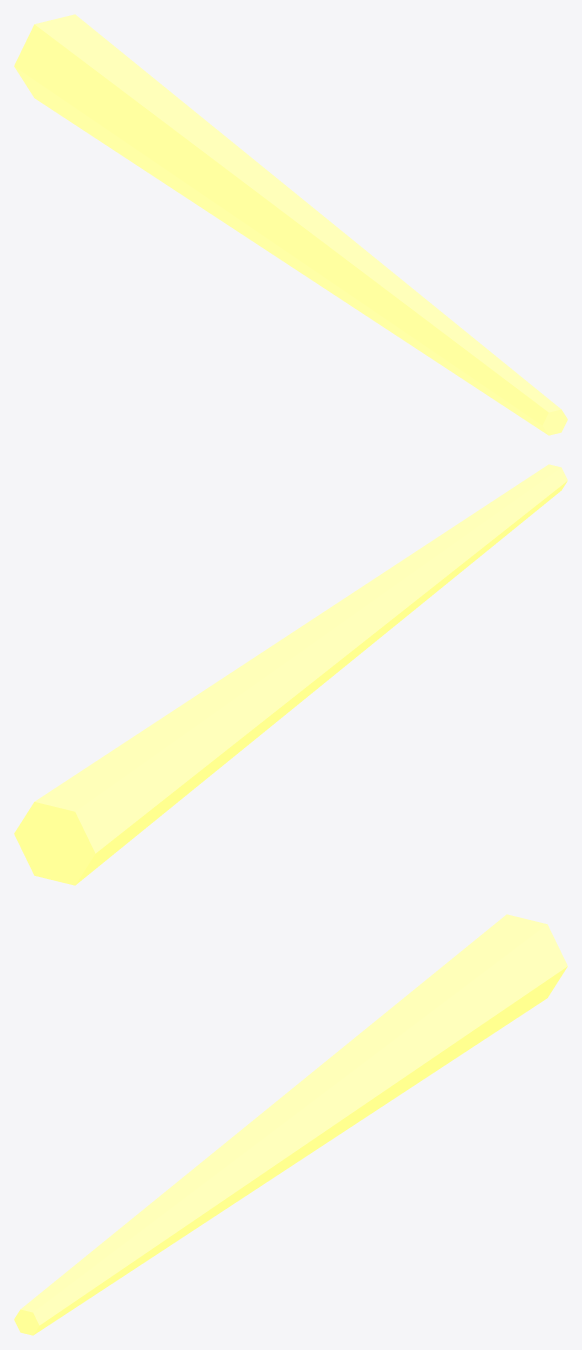
The model's file is arena_proj_bullet.glb.
3 renders of one model, top to bottom at view 1: azimuth 30°, elevation 25°; view 2: azimuth 150°, elevation 25°; view 3: azimuth 330°, elevation 25°, orthographic.
Parts seen in each view (by area): view 1: tracer; view 2: tracer; view 3: tracer.
Part boxes in pixels (x1,y1,x2,y2): tracer: (14, 14, 567, 435); tracer: (14, 464, 567, 885); tracer: (14, 914, 567, 1335).
Bounding box in the file's own units: 0.32 × 0.2771 × 3.4.
